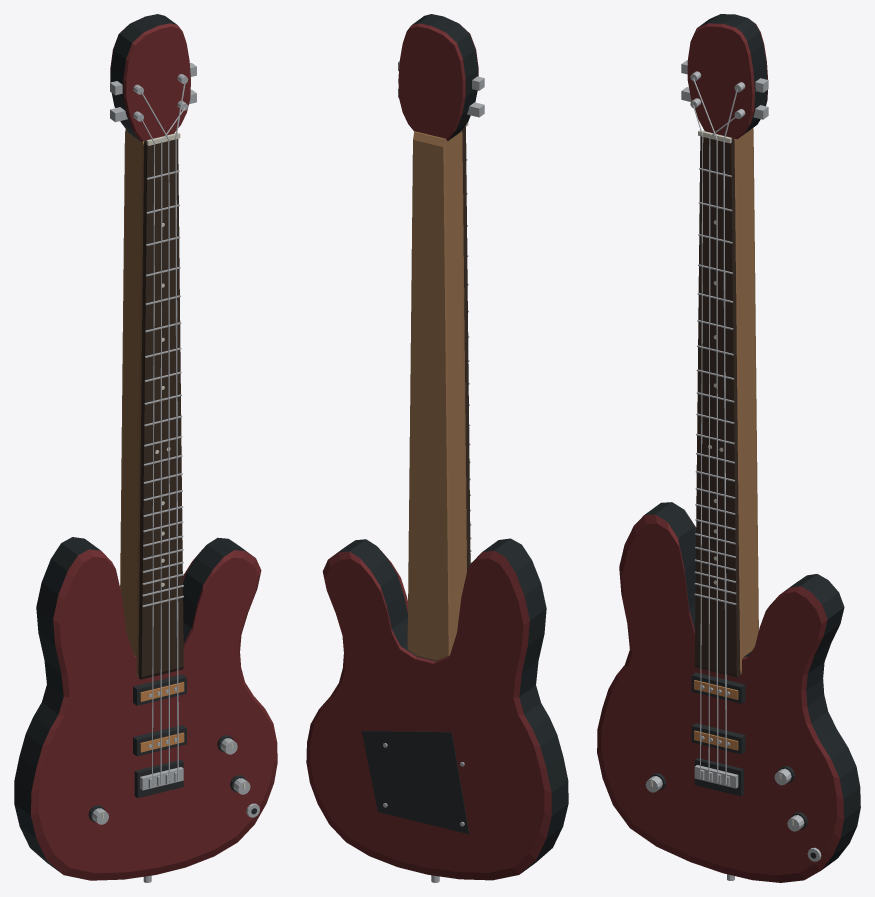
The model's file is ironwake_dredge_b4.glb.
3 renders of one model, left to right at view 1: azimuth 30°, elevation 25°; view 2: azimuth 150°, elevation 25°; view 3: azimuth 330°, elevation 25°, orthographic.
Visible parts, largest first — view 1: Ironwake_Dredge_B4; view 2: Ironwake_Dredge_B4; view 3: Ironwake_Dredge_B4.
Boxes of the visible parts, x1,y1,x2,y2 form: Ironwake_Dredge_B4: [14, 14, 277, 882]; Ironwake_Dredge_B4: [306, 14, 568, 882]; Ironwake_Dredge_B4: [597, 14, 860, 882].
Size of the model in its own units: 0.347 by 1.16 by 0.0709.
